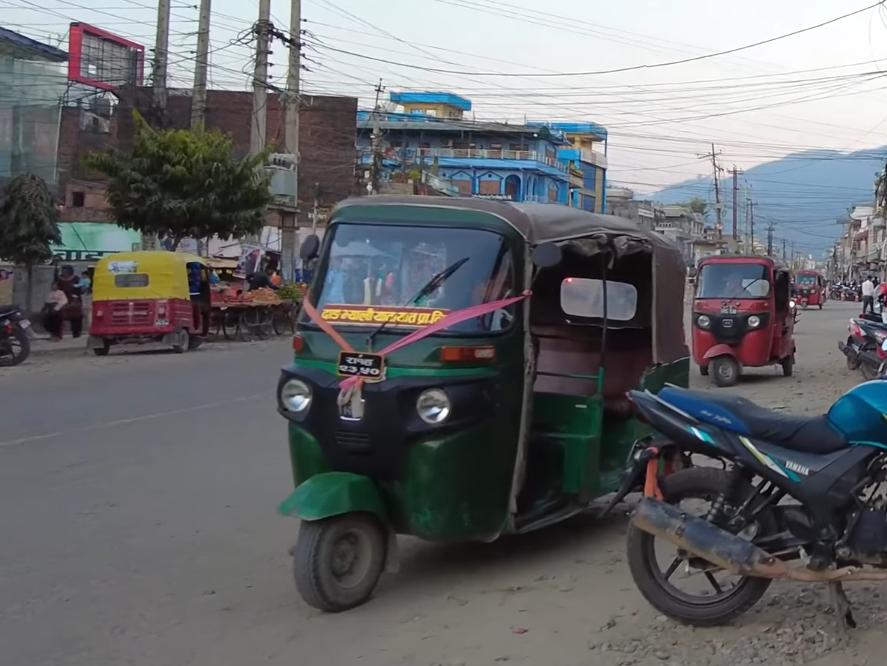auto_rickshaw: (275, 179, 697, 613), (694, 243, 812, 390), (82, 244, 224, 361), (795, 264, 828, 314)
bike: (617, 353, 887, 633)
